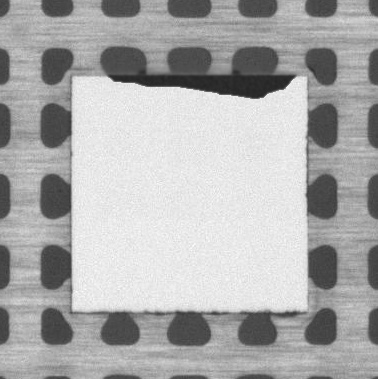DIE_BROKEN: (110, 73, 301, 100)
